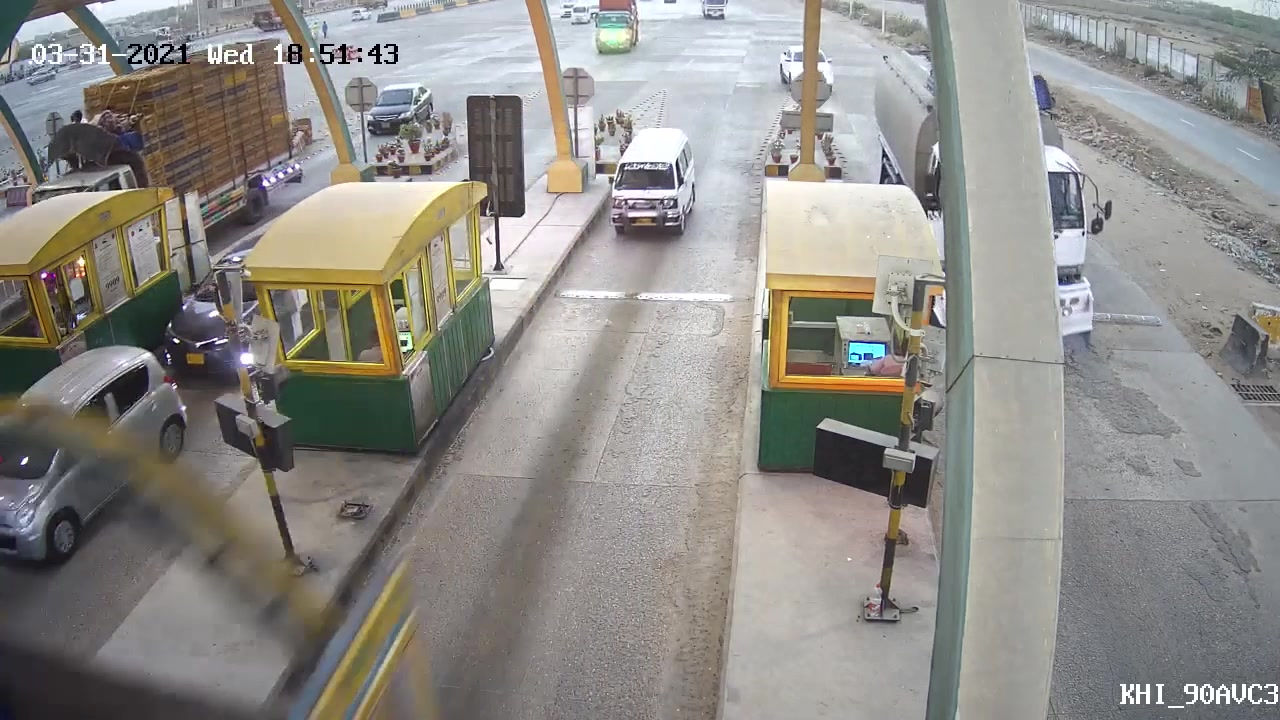F2: (599, 123, 700, 238)
